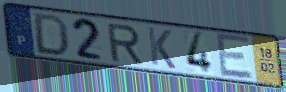2: (70, 17, 107, 64)
4: (184, 29, 215, 76)
D: (33, 11, 70, 57)
E: (214, 31, 256, 81)
K: (145, 25, 178, 71)
R: (105, 22, 144, 65)
